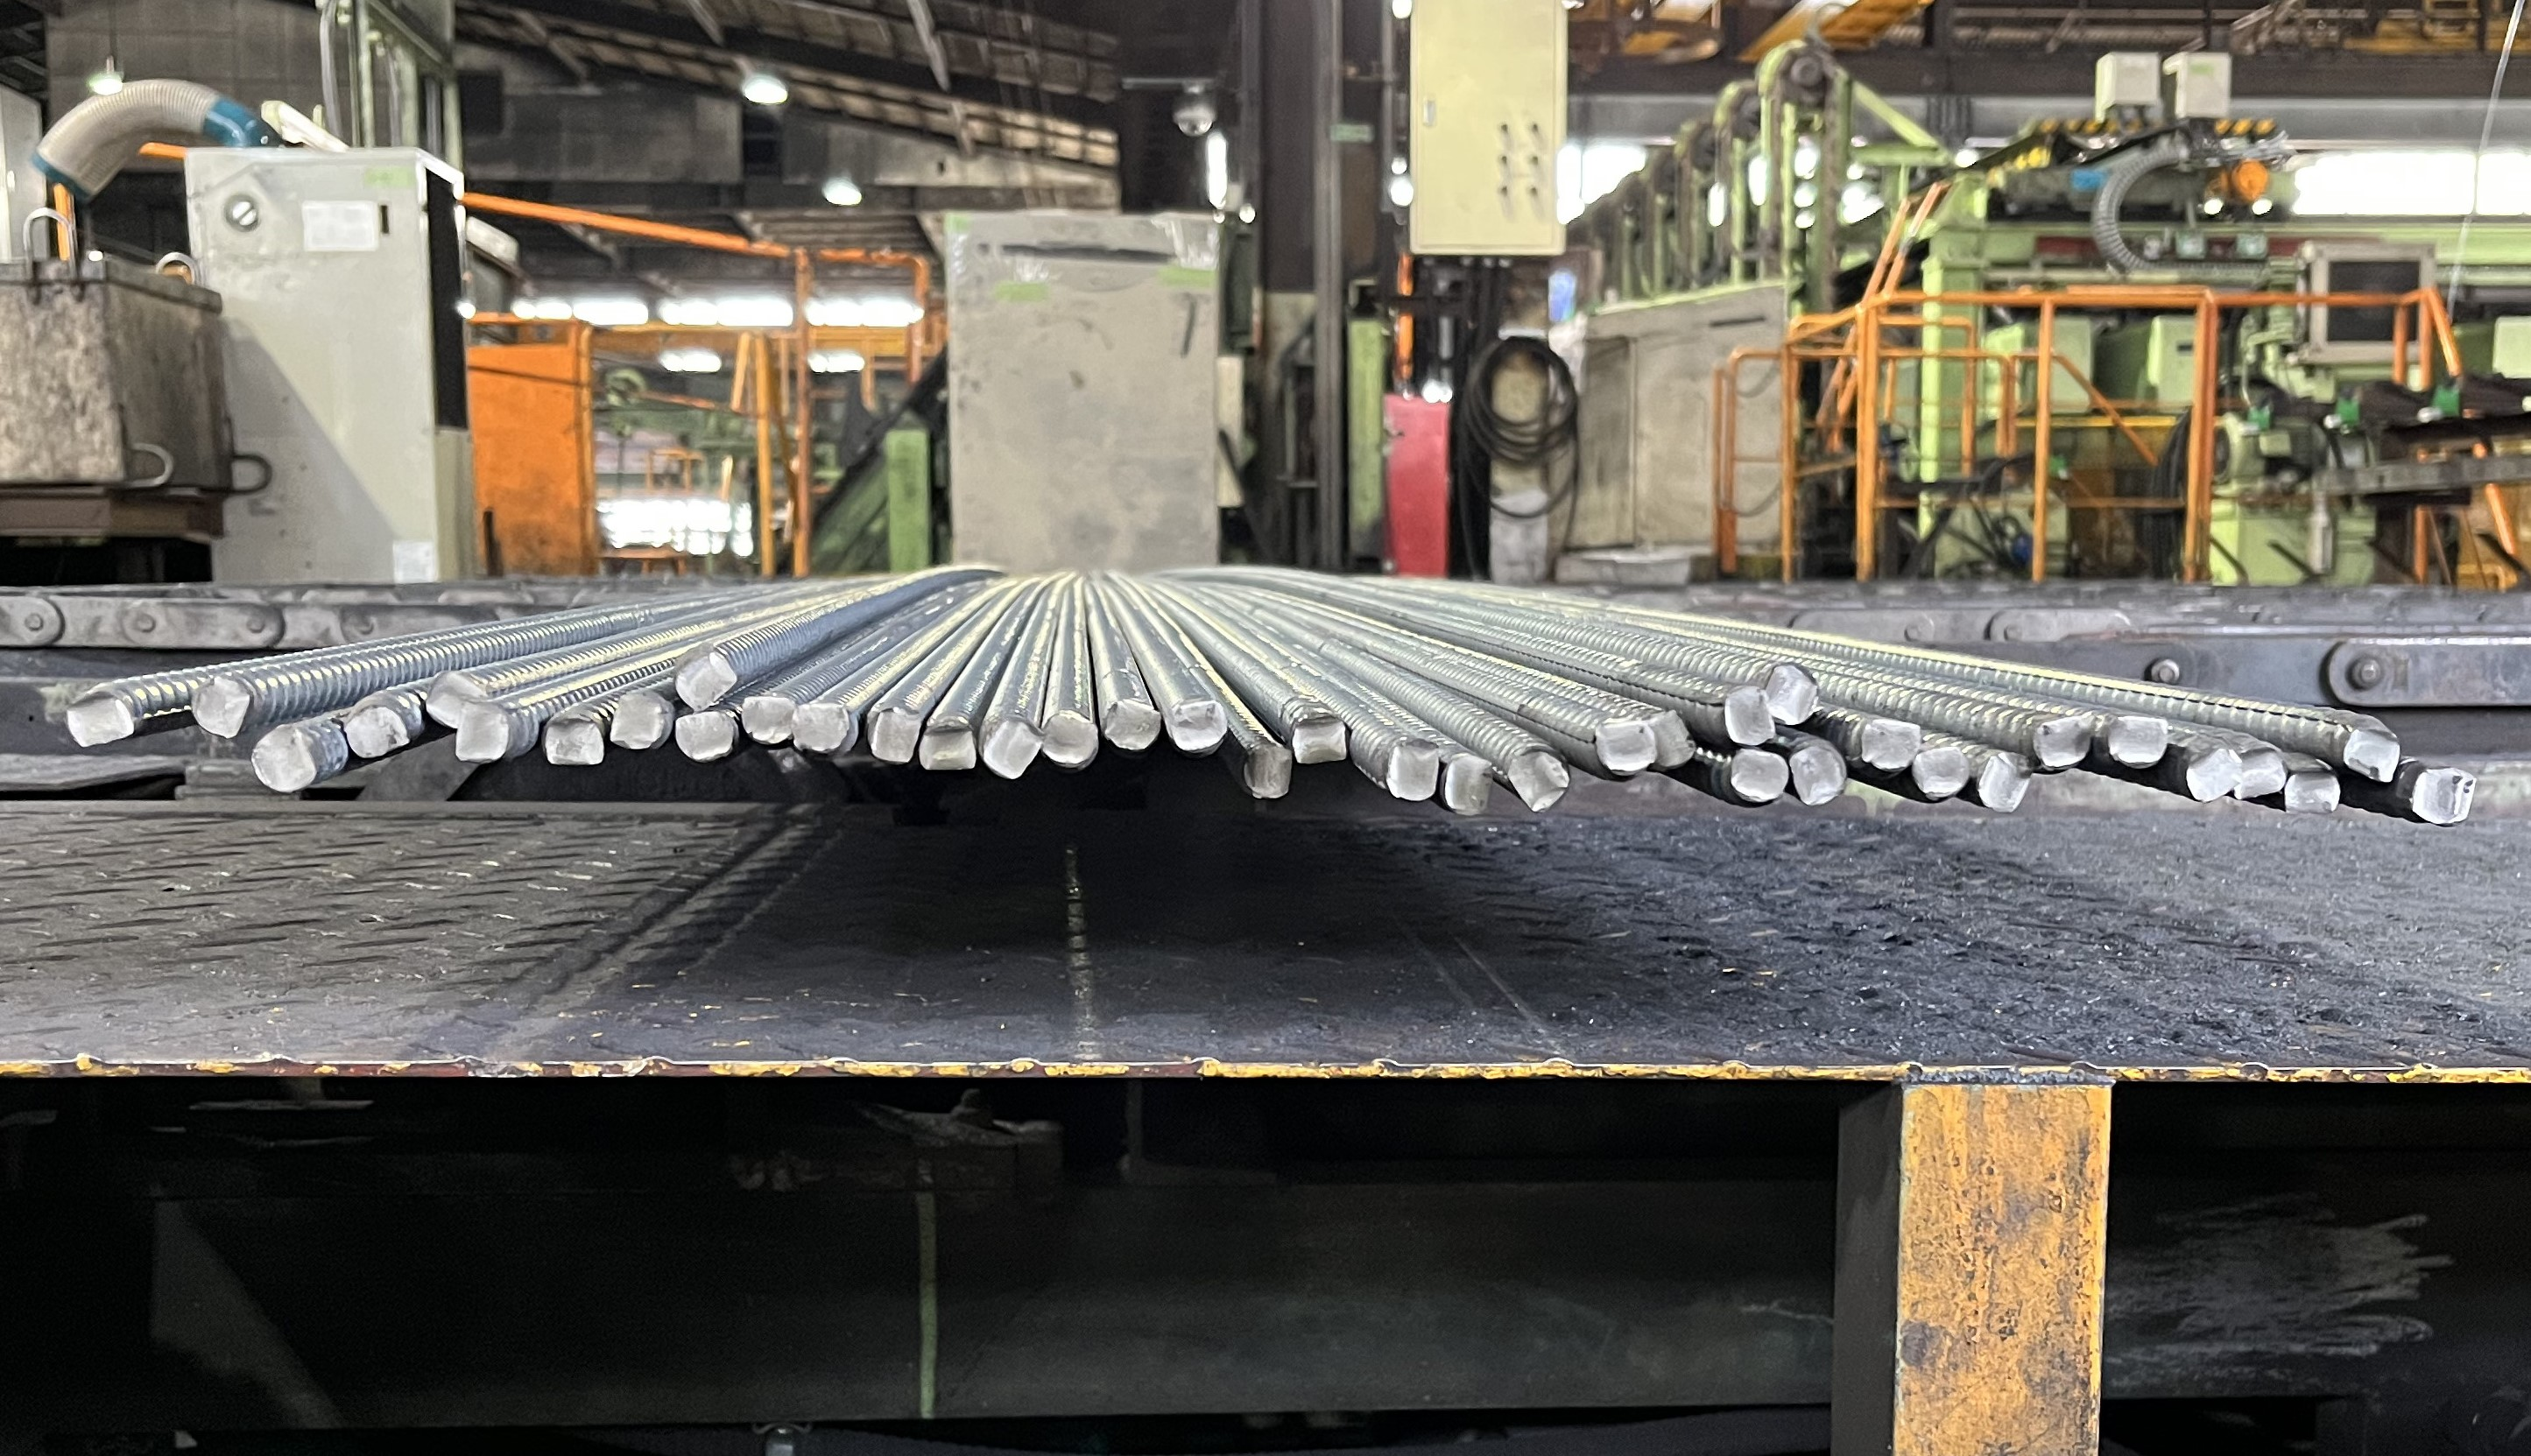rod: (247, 723, 320, 796), (188, 671, 256, 742), (673, 645, 739, 714), (1505, 745, 1571, 815), (341, 700, 410, 761), (64, 693, 137, 749), (982, 716, 1045, 780), (1592, 716, 1658, 777), (1976, 749, 2037, 815), (2182, 744, 2246, 804), (1763, 662, 1822, 728), (422, 669, 487, 728), (1787, 742, 1844, 808), (2342, 725, 2402, 785), (1858, 716, 1923, 773), (1385, 738, 1441, 804), (452, 700, 509, 763), (2406, 764, 2463, 827), (1909, 744, 1973, 799), (612, 688, 668, 751), (2107, 714, 2169, 770), (541, 714, 607, 766), (673, 711, 739, 763), (1723, 685, 1778, 745), (1728, 749, 1790, 803), (2032, 714, 2095, 768), (866, 707, 921, 766), (1102, 698, 1163, 752), (1290, 712, 1351, 766), (2281, 763, 2343, 815), (1041, 711, 1099, 766), (2230, 744, 2288, 799), (1168, 698, 1227, 752), (789, 702, 850, 754), (1443, 754, 1491, 818), (741, 693, 798, 747), (916, 723, 979, 771), (1243, 744, 1293, 803), (1650, 707, 1697, 770)
